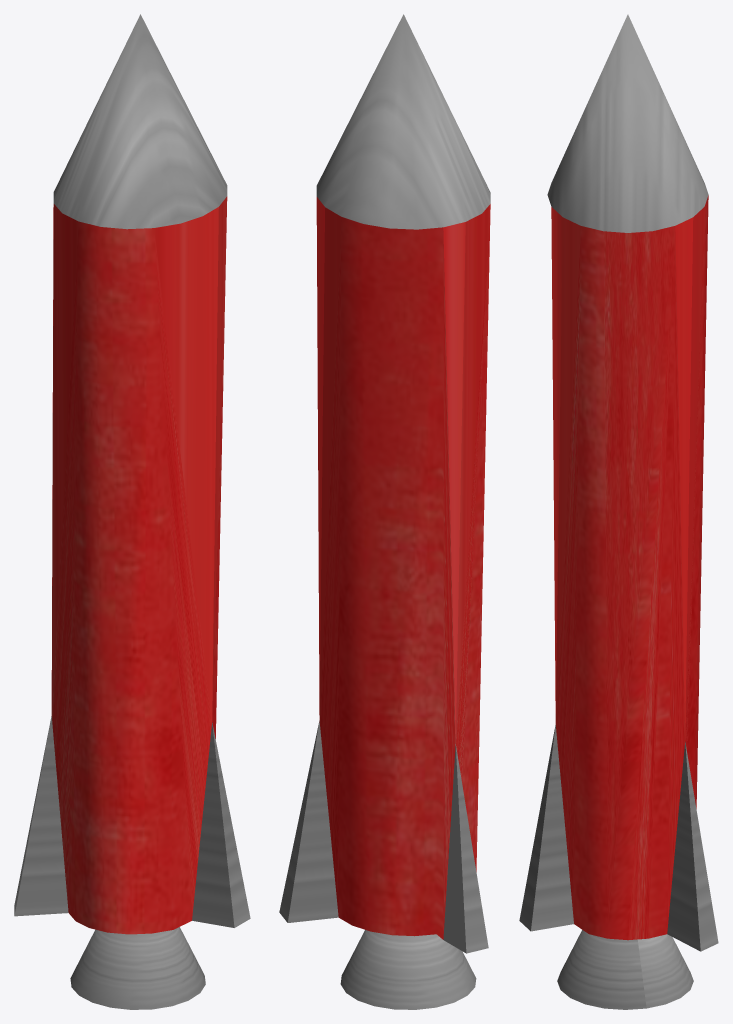
Rendered from PU_Rocket2.fbx.
3 views of the same model, side by side, from view 1: azimuth 30°, elevation 25°; view 2: azimuth 150°, elevation 25°; view 3: azimuth 270°, elevation 25° (orthographic).
Visible parts, largest first — view 1: polySurface1; view 2: polySurface1; view 3: polySurface1.
Boxes of the visible parts, <box> form: polySurface1: <box>14,14,250,1009</box>; polySurface1: <box>279,14,490,1009</box>; polySurface1: <box>519,14,718,1009</box>.
Bounding box in the file's own units: 0.4534 × 2.16 × 0.4032.
Materials: 2 (2 with a texture image).
